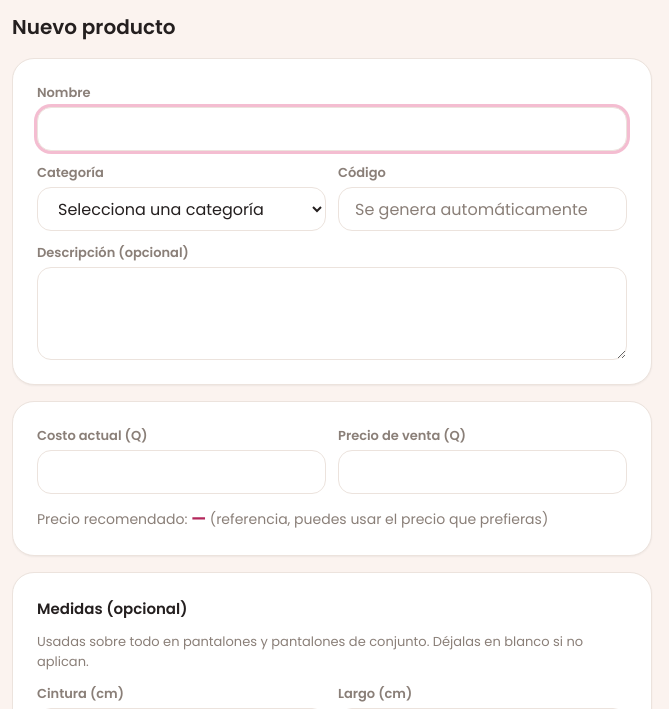
Scenario: ProductFormPage (crear) › genera el código automáticamente al elegir categoría
Select "Blusas" in the dropdown labelled "Categoría": {"x": 182, "y": 209} [37, 187, 326, 231]
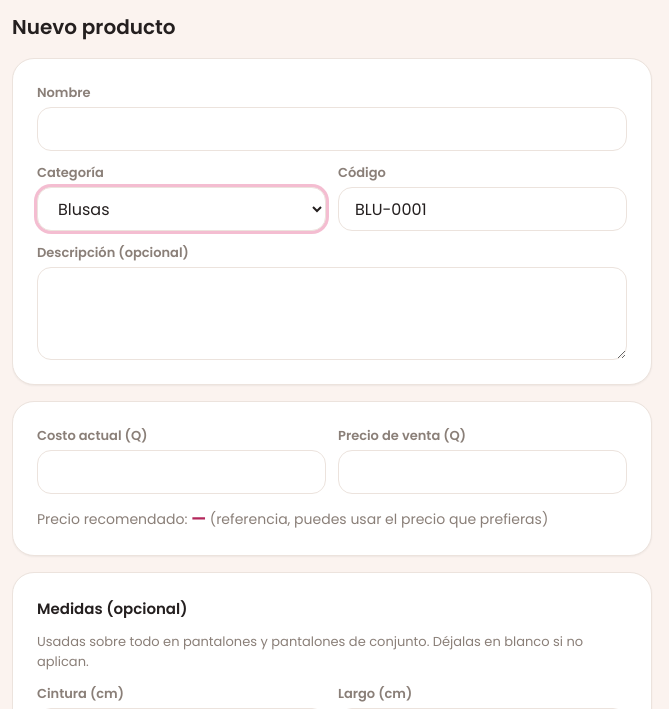
Expected: the field showing "BLU-0001" is shown, [338, 187, 627, 231]
